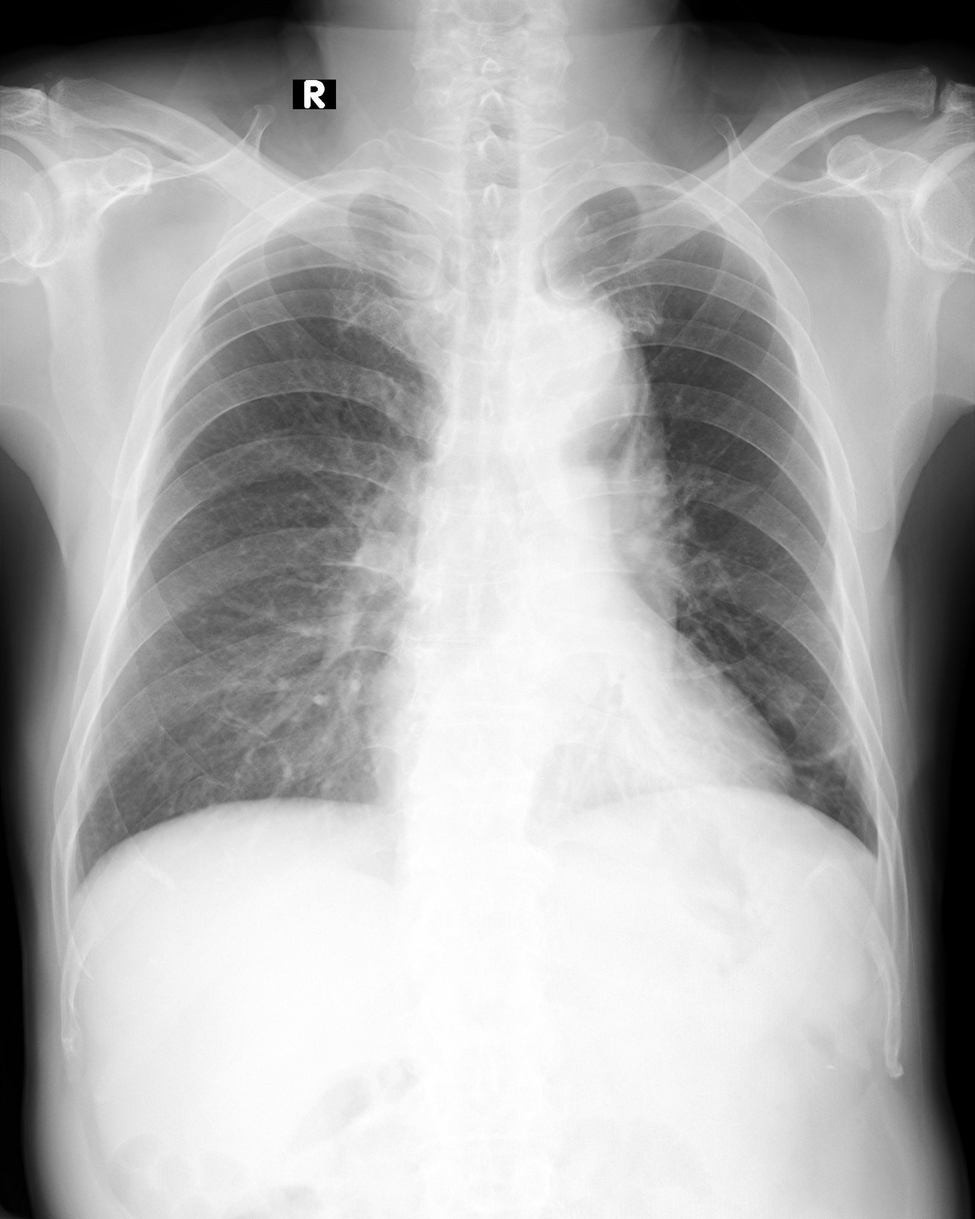Aortic enlargement: (508, 290, 666, 458)
Pleural thickening: (867, 835, 890, 874)
Pulmonary fibrosis: (804, 711, 861, 761)
